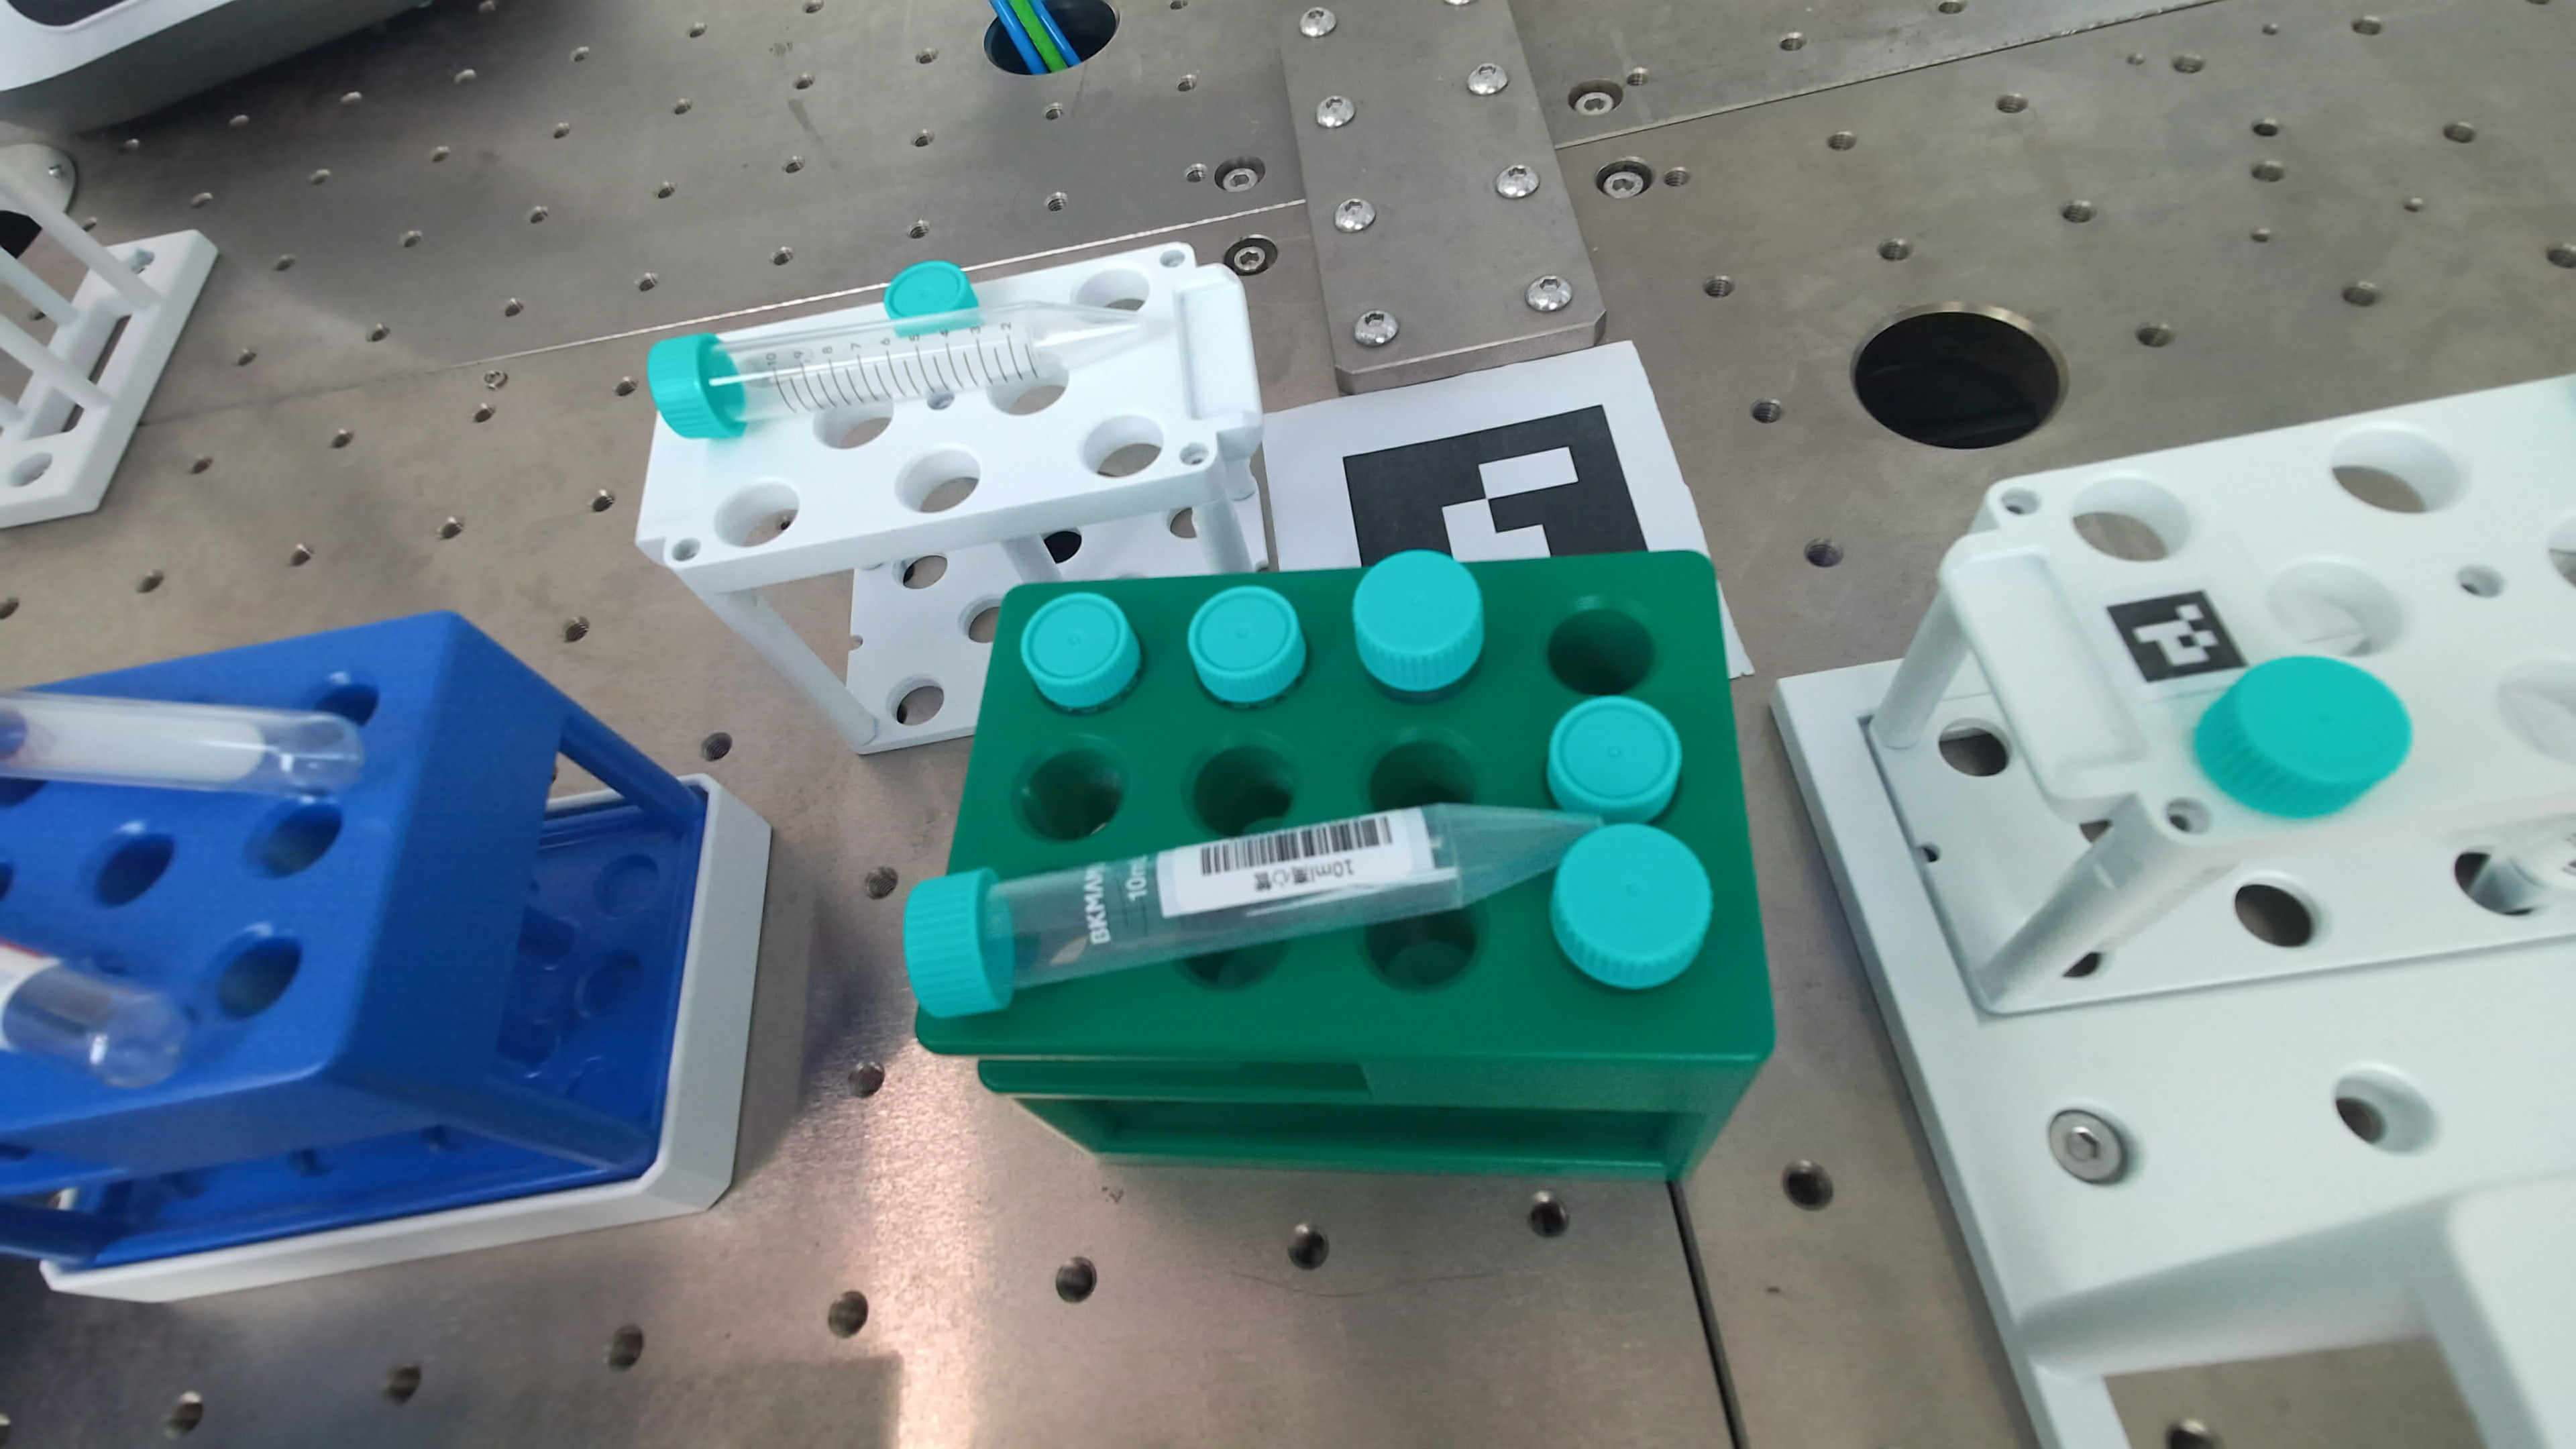10ML_centrifuge_tube: (906, 807, 1591, 1017), (649, 303, 1136, 439), (2196, 656, 2411, 819), (1550, 824, 1713, 989), (1352, 550, 1484, 694)
10ML_sorting_tube_rack: (0, 614, 706, 1265)
5ML_centrifuge_tube: (1548, 697, 1681, 821), (1021, 591, 1141, 711), (1187, 586, 1306, 704), (883, 260, 977, 320)
5ML_sorting_tube_rack: (916, 552, 1775, 1178)
blood_tube: (0, 694, 364, 794), (0, 941, 189, 1088)
dispensing_tube_rack: (1775, 377, 2576, 1445), (637, 244, 1267, 752)
sorting_tube_rack_base: (42, 777, 770, 1302)
